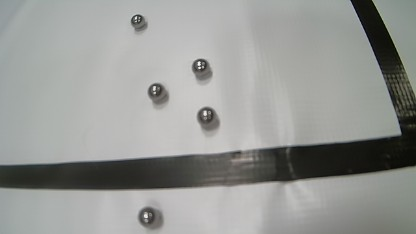ironball: (138, 207, 162, 229), (197, 106, 219, 129), (147, 82, 168, 103), (192, 58, 211, 78), (130, 14, 146, 30)
